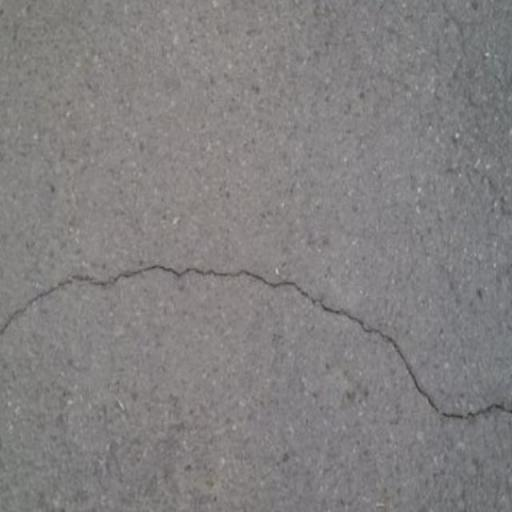severe crack: (0, 253, 512, 430)
